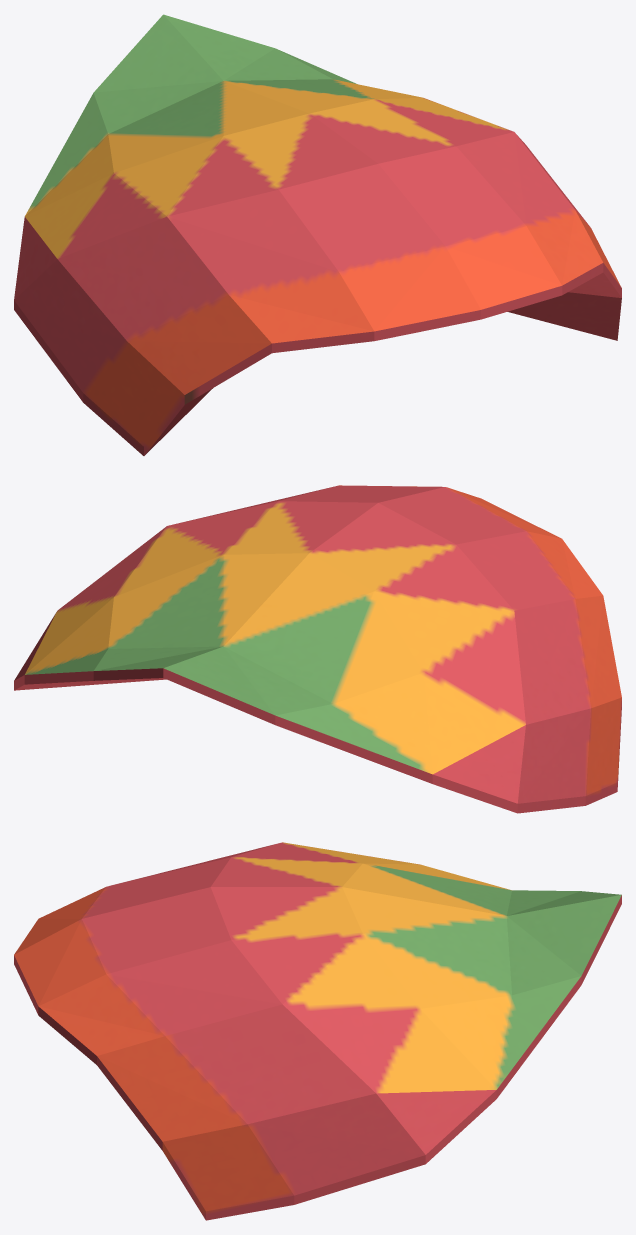
Rendered from WomenBandana.FBX.
3 renders of one model, top to bottom at view 1: azimuth 30°, elevation 25°; view 2: azimuth 150°, elevation 25°; view 3: azimuth 270°, elevation 25°, orthographic. The views are drawn at different scales.
Visible parts, largest first — view 1: WomenBandana; view 2: WomenBandana; view 3: WomenBandana.
Boxes of the visible parts, x1,y1,x2,y2 form: WomenBandana: (14,14,621,455); WomenBandana: (14,485,621,813); WomenBandana: (14,842,621,1220).
Bounding box in the file's own units: 218 × 239 × 96.62.
Materials: 1 (1 with a texture image).
